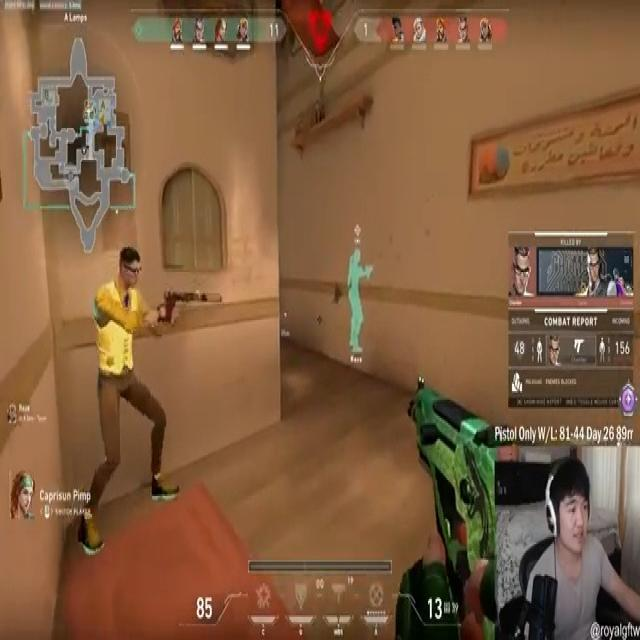ally: (75, 230, 203, 561)
ally behind wall: (344, 240, 375, 369)
